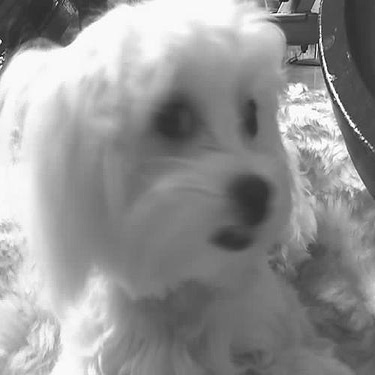dog: (3, 1, 362, 371)
